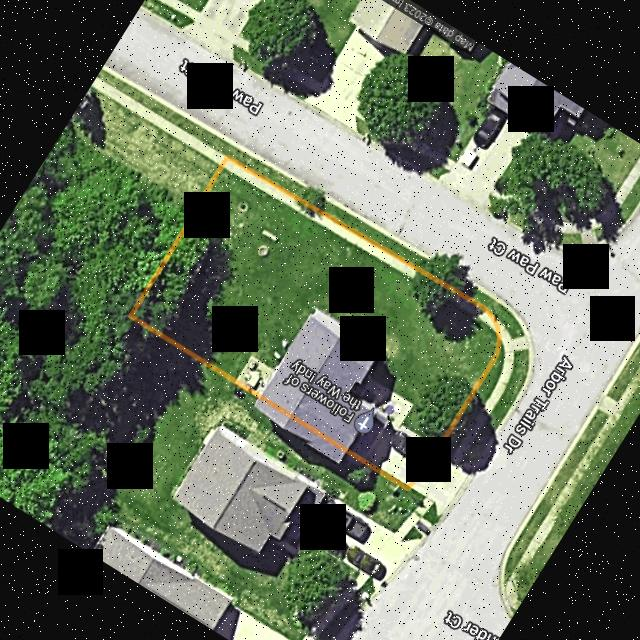Driveway: (363, 417, 435, 484)
Extra Driveway: (411, 451, 475, 516)
Extra Lawn: (226, 143, 523, 338), (438, 341, 504, 459), (460, 346, 528, 460), (408, 486, 425, 500), (430, 501, 439, 516)
Extra Sidewalk: (448, 316, 526, 464), (422, 496, 433, 506)
House: (260, 308, 388, 458)
Other: (236, 354, 274, 392)
Sidewalk: (222, 158, 496, 332), (349, 357, 412, 427)
